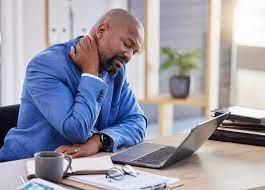Bad Sitting Posture: (13, 2, 183, 160)
